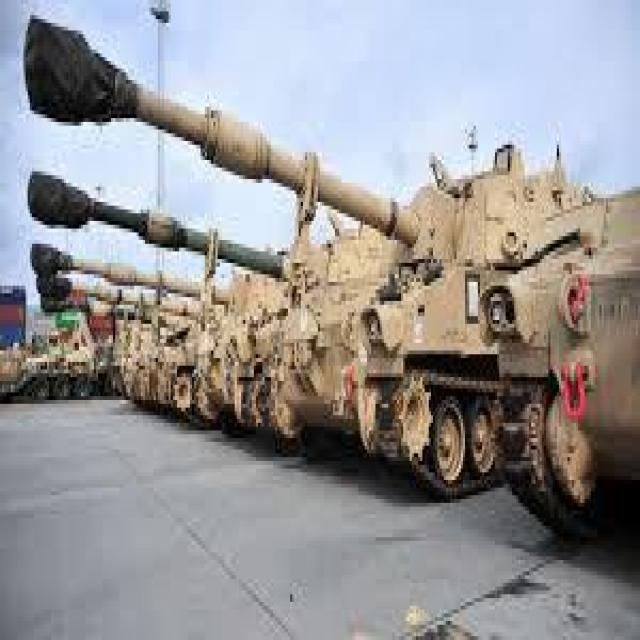Tanks: (19, 6, 429, 234), (492, 183, 632, 571), (31, 225, 263, 453), (355, 196, 490, 494), (279, 227, 350, 448)
